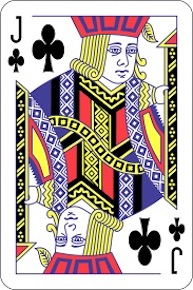JackOfClubs: (1, 1, 193, 289)
